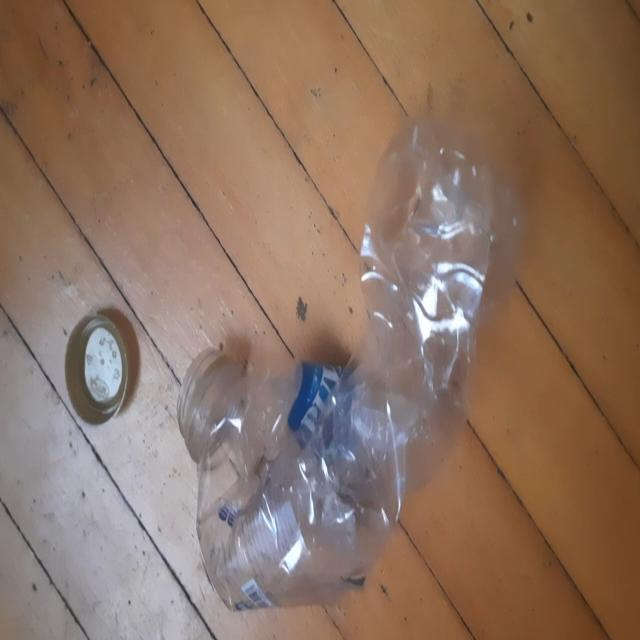Plastic: (177, 116, 518, 612)
